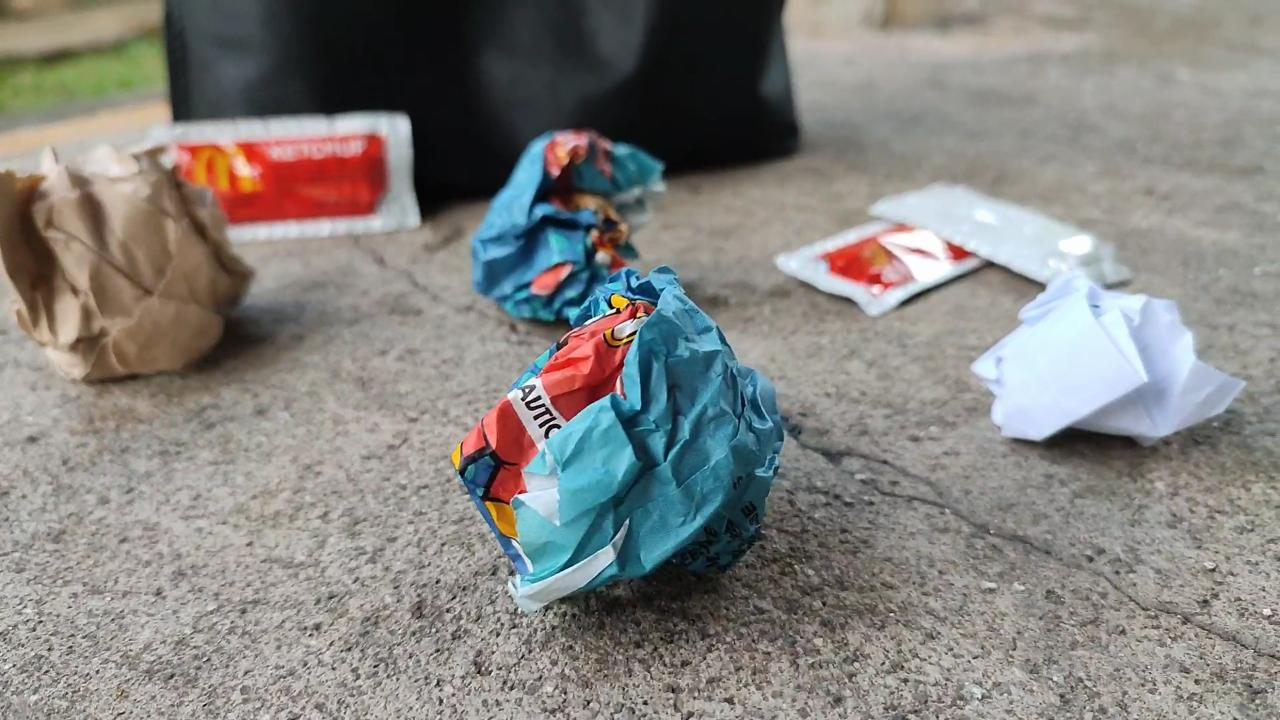Paper: (434, 259, 796, 632), (0, 125, 280, 400), (961, 259, 1275, 486), (437, 92, 666, 338)
